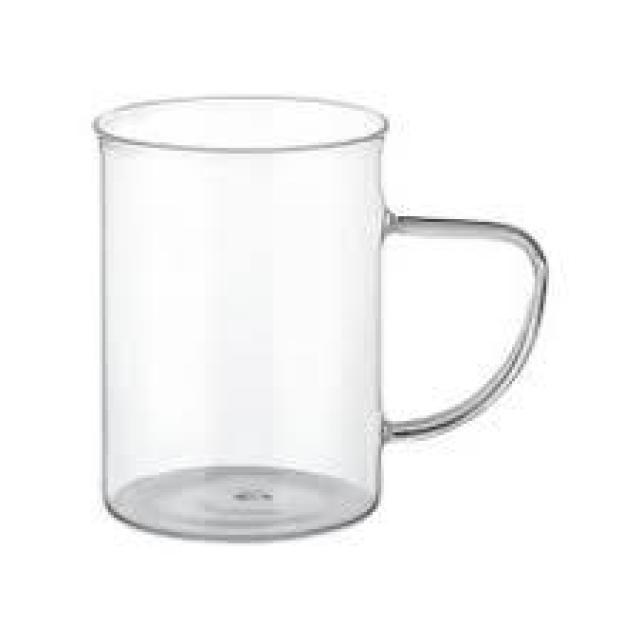Glass: (91, 86, 552, 548)
